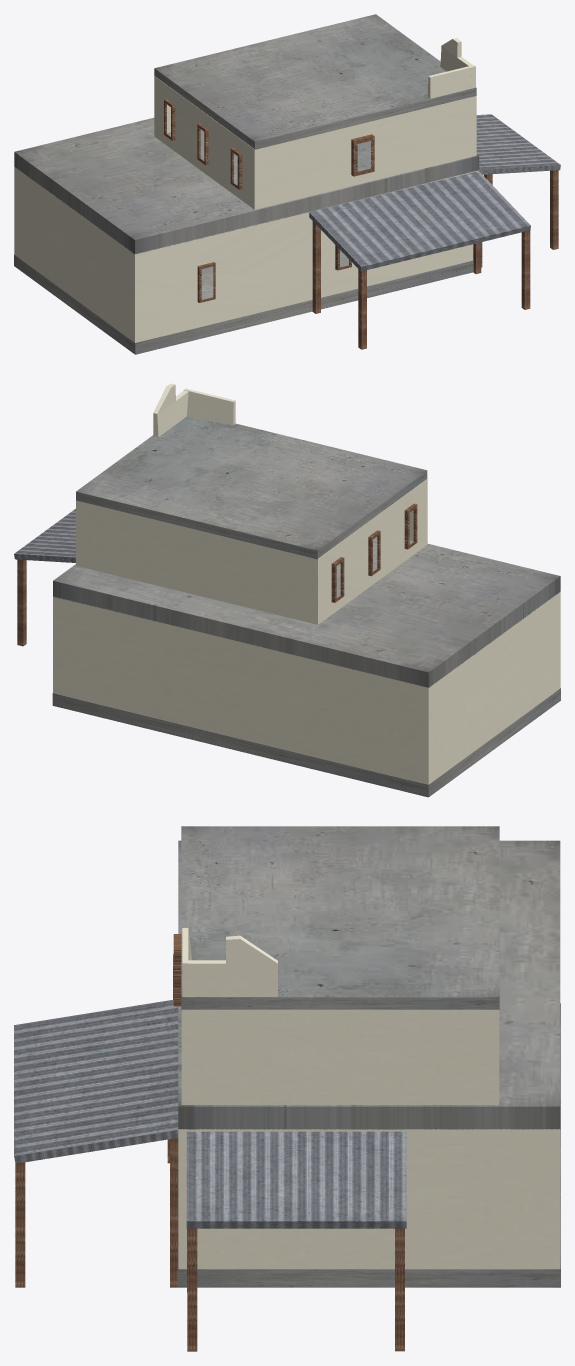
File: Desert bulidng1(04-18).FBX
3 views of the same model, one above another, from view 1: azimuth 30°, elevation 25°; view 2: azimuth 150°, elevation 25°; view 3: azimuth 270°, elevation 25° (orthographic). The views are drawn at different scales.
Visible parts, largest first — view 1: Box003; view 2: Box003; view 3: Box003.
Part boxes in pixels (left/top/right/bottom): Box003: left=14, top=14, right=560, bottom=354; Box003: left=14, top=383, right=560, bottom=797; Box003: left=14, top=826, right=560, bottom=1351.
Size of the model in its own units: 349 by 170 by 244.
